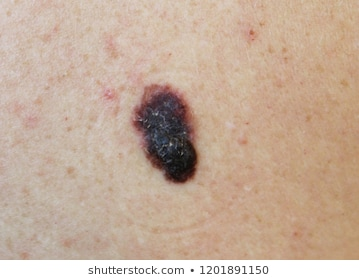melanoma: (88, 74, 232, 200)
